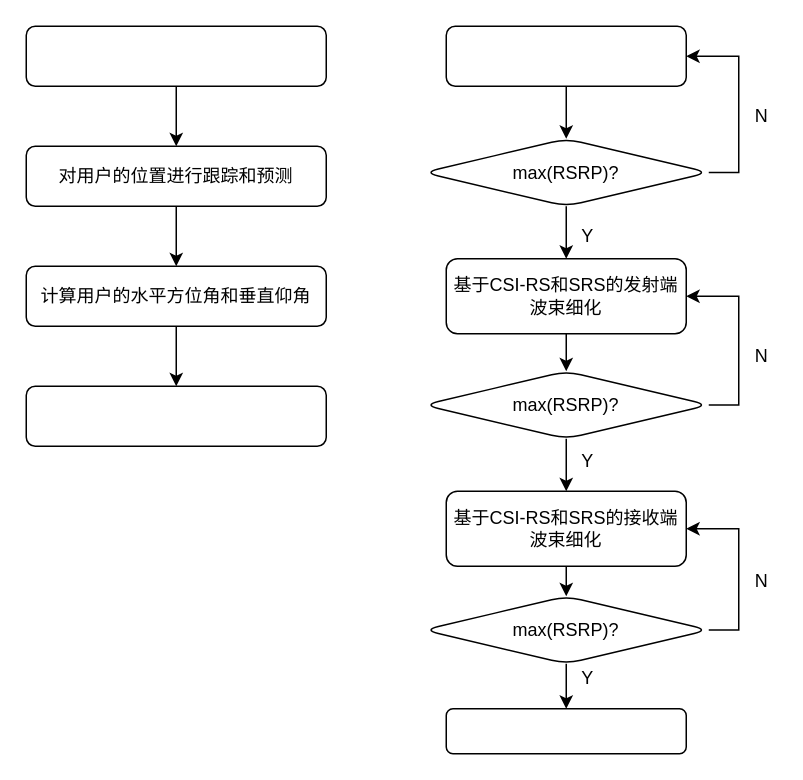
Some shapes in this 803 by 780 pixel diagram are drawn without their labels. Each missing label, with the centre of its shape:
"SSB捕获" belongs at [565,55].
"最佳波束确定" belongs at [565,730].
"用户天线波束与基站天线波束对准" belongs at [175,415].
"确定移动终端的运动模型" belongs at [175,55].
